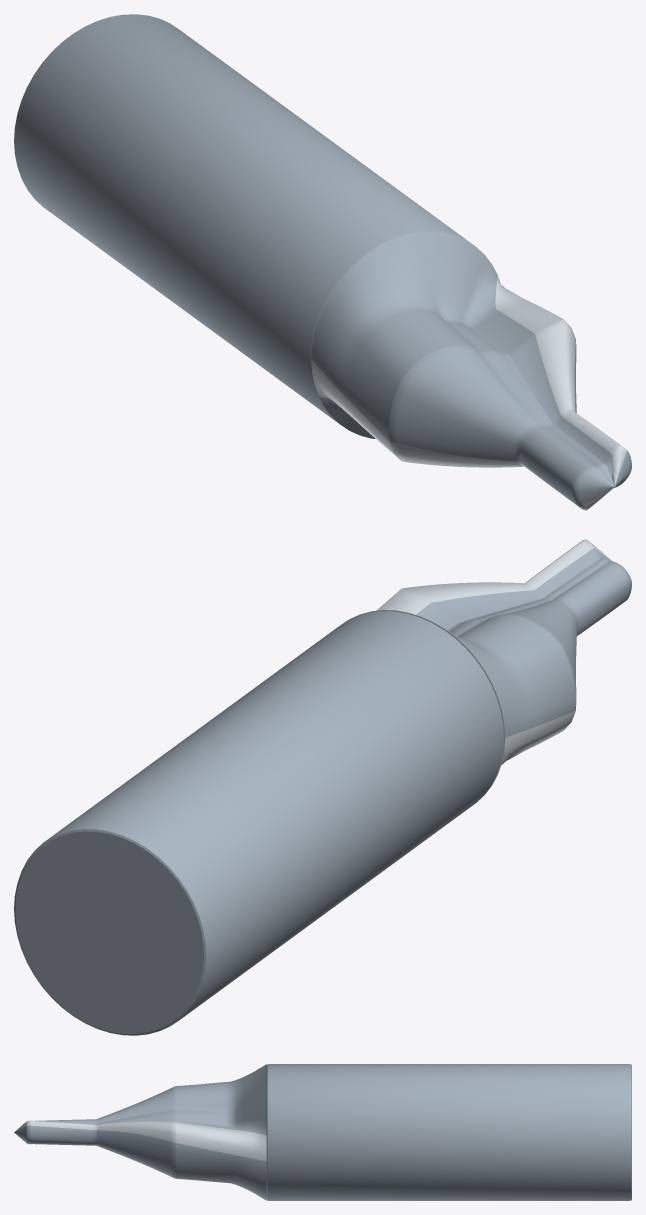
File: center-drill.glb
The picture shows the model from 3 angles, top to bottom: view 1: azimuth 30°, elevation 25°; view 2: azimuth 150°, elevation 25°; view 3: azimuth 270°, elevation 25°; orthographic projection. The views are drawn at different scales.
Visible parts, largest first — view 1: CenterDrill_Shank, CenterDrill_Pilot_And_60deg_Cone; view 2: CenterDrill_Shank, CenterDrill_Pilot_And_60deg_Cone; view 3: CenterDrill_Shank, CenterDrill_Pilot_And_60deg_Cone.
Boxes of the visible parts, x1,y1,x2,y2 form: CenterDrill_Shank: (14,14,472,423); CenterDrill_Pilot_And_60deg_Cone: (311,231,631,510); CenterDrill_Shank: (14,611,503,1035); CenterDrill_Pilot_And_60deg_Cone: (348,539,631,802); CenterDrill_Shank: (266,1064,631,1200); CenterDrill_Pilot_And_60deg_Cone: (14,1064,266,1200).
Size of the model in its own units: 0.006 by 0.006 by 0.0271.
